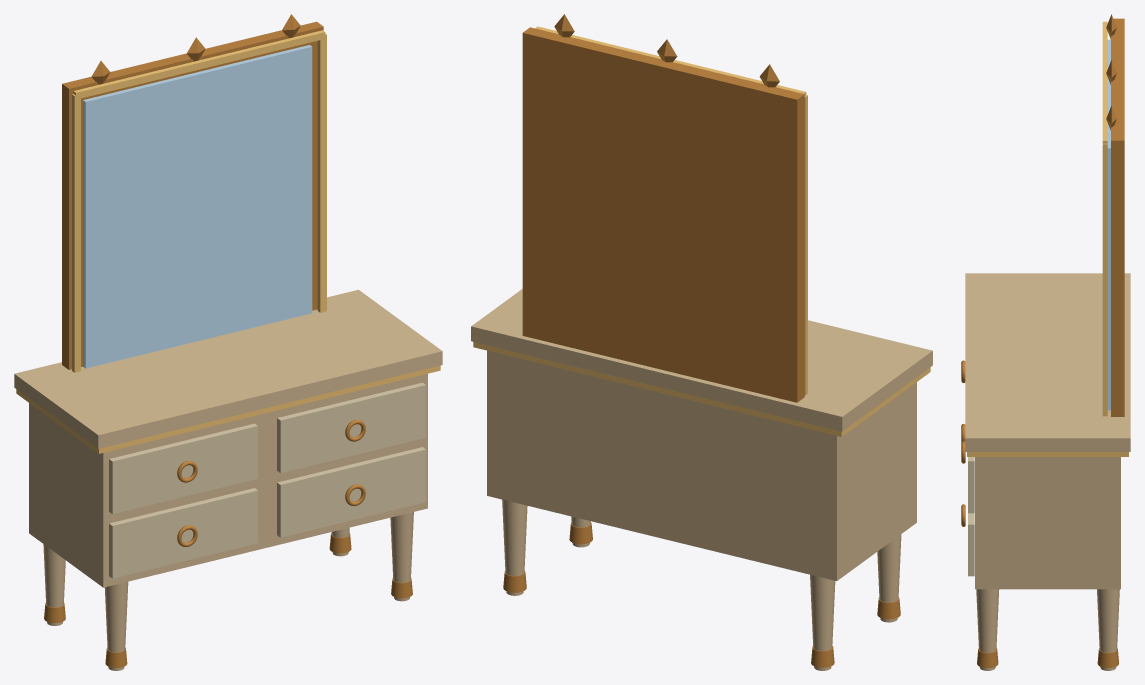
The model's file is mia-vanity.glb.
3 renders of one model, left to right at view 1: azimuth 30°, elevation 25°; view 2: azimuth 150°, elevation 25°; view 3: azimuth 270°, elevation 25°, orthographic. The views are drawn at different scales.
Visible parts, largest first — view 1: Body_mirror-silver, Body_ivory, Body_page-light, Body_brass, Body_trim; view 2: Body_brass, Body_ivory, Body_trim; view 3: Body_ivory, Body_brass, Body_trim, Body_mirror-silver, Body_page-light.
Boxes of the visible parts, x1=… form: Body_mirror-silver: x1=83, y1=45, x2=312, y2=368; Body_ivory: x1=14, y1=289, x2=442, y2=670; Body_page-light: x1=109, y1=382, x2=425, y2=578; Body_brass: x1=44, y1=14, x2=412, y2=667; Body_trim: x1=16, y1=30, x2=440, y2=453; Body_brass: x1=503, y1=14, x2=900, y2=667; Body_ivory: x1=471, y1=289, x2=932, y2=670; Body_trim: x1=473, y1=26, x2=930, y2=436; Body_ivory: x1=965, y1=273, x2=1130, y2=670; Body_brass: x1=961, y1=14, x2=1124, y2=667; Body_trim: x1=967, y1=21, x2=1128, y2=456; Body_mirror-silver: x1=1107, y1=39, x2=1110, y2=410; Body_page-light: x1=968, y1=457, x2=974, y2=576.
Size of the model in its own units: 1.23 by 1.87 by 0.5329.
